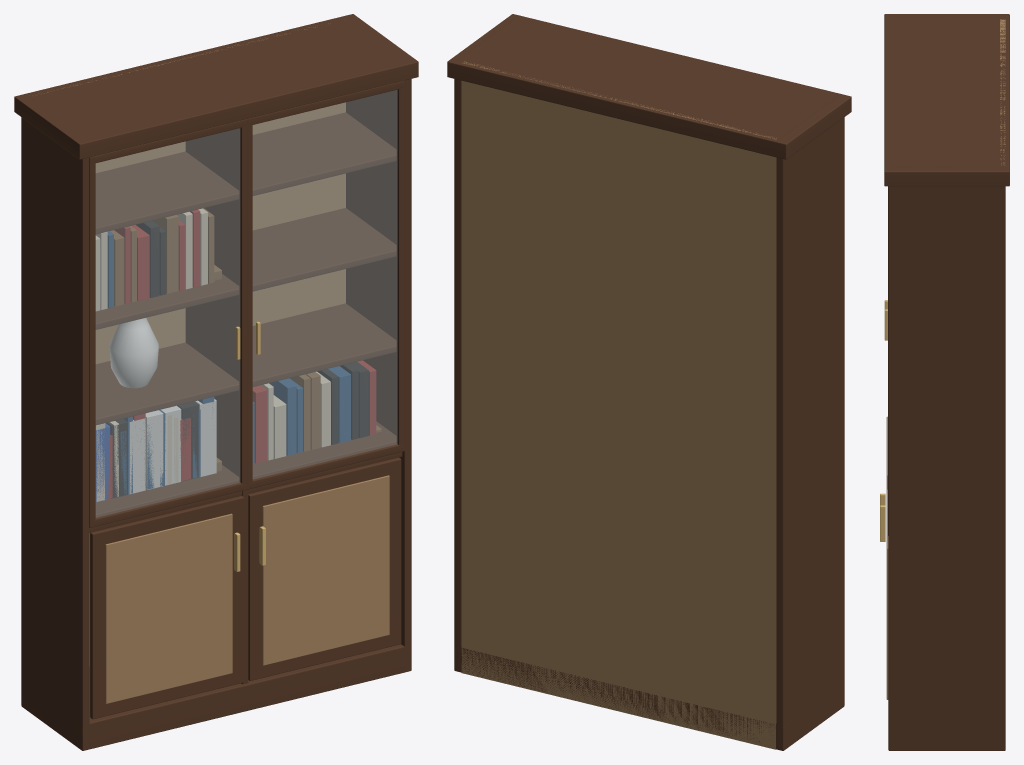
The model's file is bgd_tu_sach_b.glb.
The picture shows the model from 3 angles, left to right: view 1: azimuth 30°, elevation 25°; view 2: azimuth 150°, elevation 25°; view 3: azimuth 270°, elevation 25°; orthographic projection. The views are drawn at different scales.
Visible parts, largest first — view 1: bgd_tu_sach_b; view 2: bgd_tu_sach_b; view 3: bgd_tu_sach_b.
Part boxes in pixels (left/top/right/bottom): bgd_tu_sach_b: left=14, top=14, right=418, bottom=750; bgd_tu_sach_b: left=447, top=14, right=851, bottom=750; bgd_tu_sach_b: left=880, top=14, right=1009, bottom=750.
Bounding box in the file's own units: 1.34 × 2.3 × 0.465.
